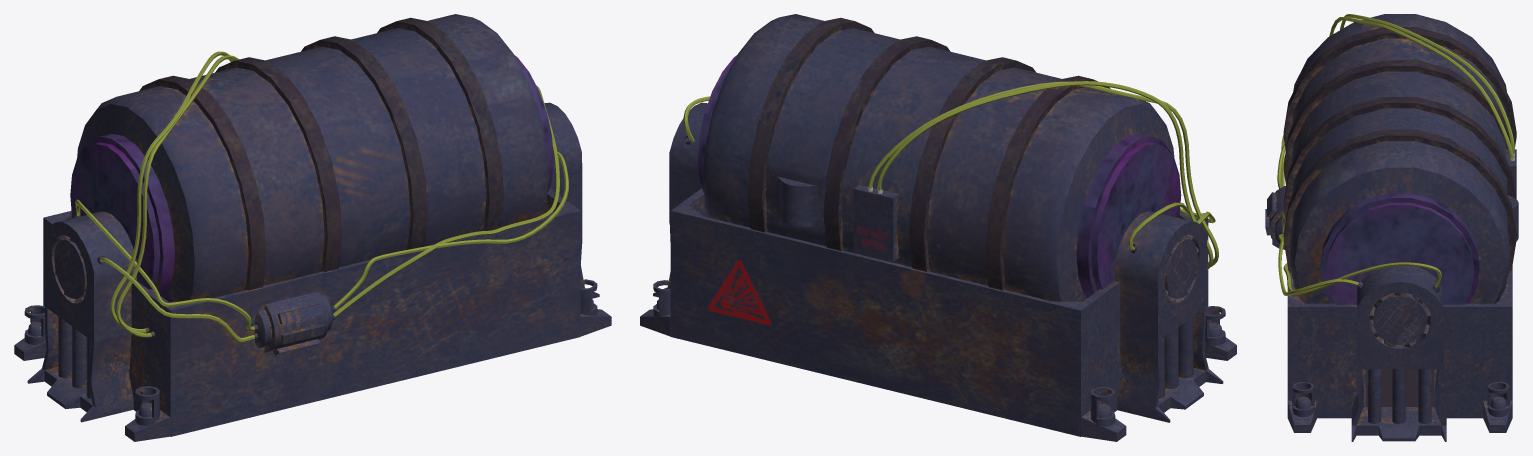
File: old_generator_game_asset.glb
3 renders of one model, left to right at view 1: azimuth 30°, elevation 25°; view 2: azimuth 150°, elevation 25°; view 3: azimuth 270°, elevation 25°, orthographic. The views are drawn at different scales.
Parts seen in each view (by area): view 1: Circle.003; view 2: Circle.003; view 3: Circle.003.
Boxes of the visible parts, x1,y1,x2,y2 form: Circle.003: (14,14,611,441); Circle.003: (640,14,1236,441); Circle.003: (1265,14,1518,441).
Bounding box in the file's own units: 435 × 230 × 209.
Materials: 1 (1 with a texture image).
